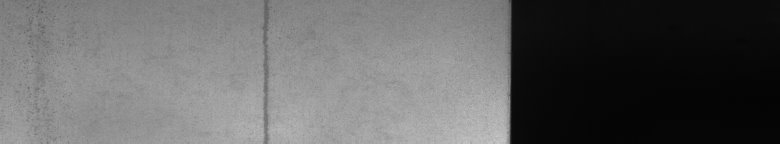hd: (260, 4, 273, 136)
